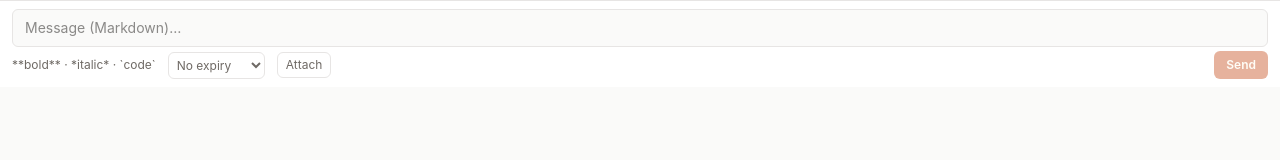
Test case: ChatInput slash submit (issue #99 Phase 3) › the hint clears on the next edit
The width and height of the screenshot is (1280, 160).
In the dropdown named "Write a message": (640, 28) [12, 9, 1268, 47], type "/foo"
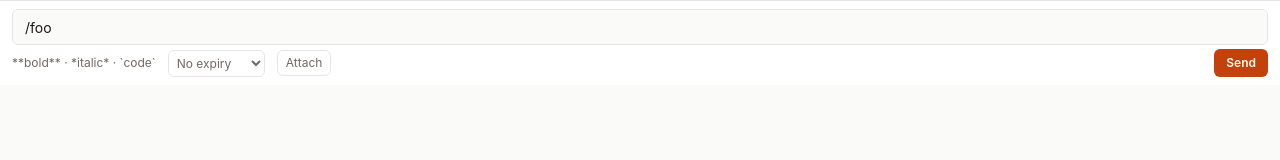
Press Enter in the dropdown named "Write a message", box [12, 9, 1268, 45]
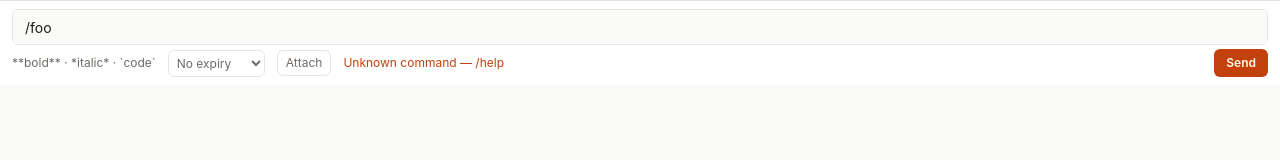
Check: the message "Unknown command — /help" is shown, box [343, 55, 504, 71]
Replace the text in the dropdown named "Write a message" with "/foo hola": (640, 27) [12, 9, 1268, 45]
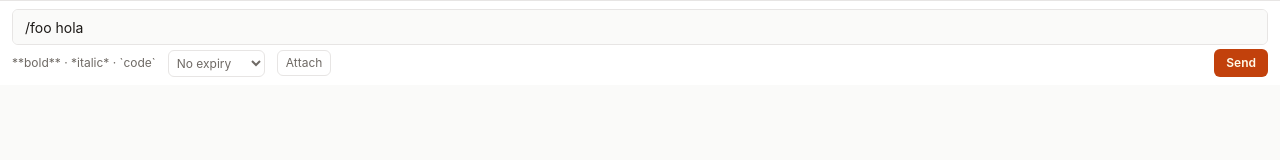
Check: the message "Unknown command — /help" is gone
